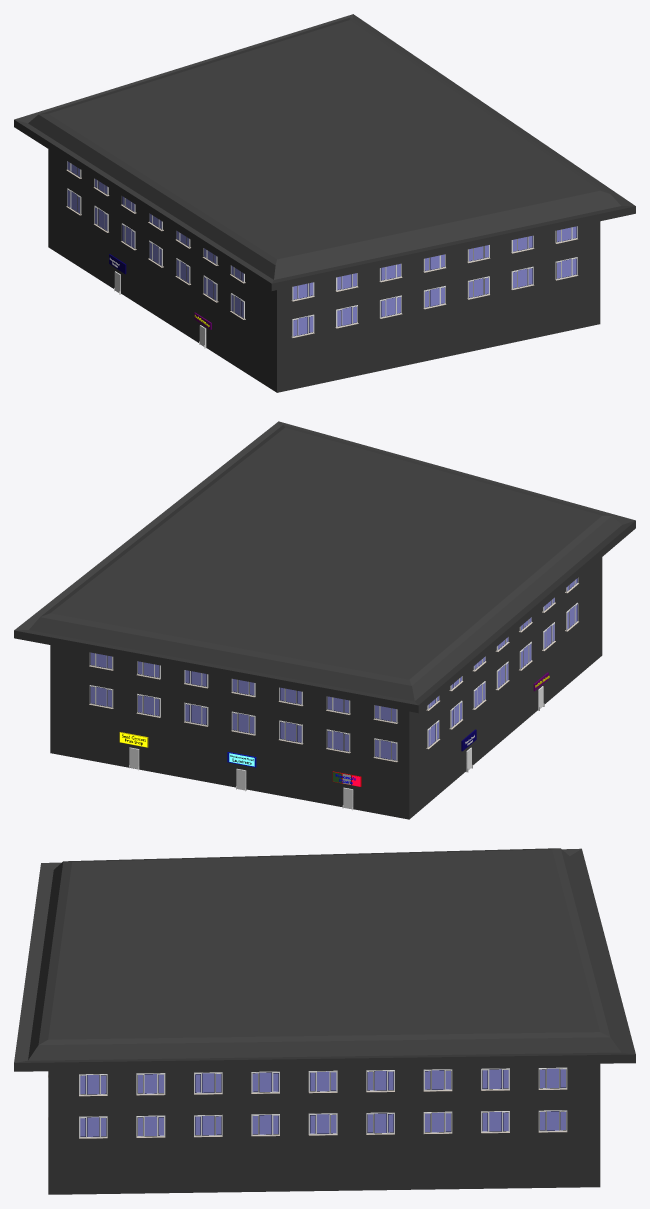
Rendered from EmpireRoadShops2.fbx.
The picture shows the model from 3 angles, top to bottom: view 1: azimuth 30°, elevation 25°; view 2: azimuth 150°, elevation 25°; view 3: azimuth 270°, elevation 25°; orthographic projection. The views are drawn at different scales.
Parts seen in each view (by area): view 1: EmpireRoadBuilding3, Window.002, Window.001; view 2: EmpireRoadBuilding3, Window, Window.001; view 3: EmpireRoadBuilding3, Window.003.
Part boxes in pixels (bbox=[...]): EmpireRoadBuilding3: bbox=[14, 14, 635, 392]; Window.002: bbox=[291, 226, 578, 337]; Window.001: bbox=[66, 161, 245, 319]; EmpireRoadBuilding3: bbox=[14, 421, 635, 819]; Window: bbox=[89, 652, 397, 762]; Window.001: bbox=[426, 577, 578, 749]; EmpireRoadBuilding3: bbox=[14, 848, 635, 1194]; Window.003: bbox=[79, 1067, 567, 1138].
Size of the model in its own units: 44.11 by 15.06 by 54.11.
